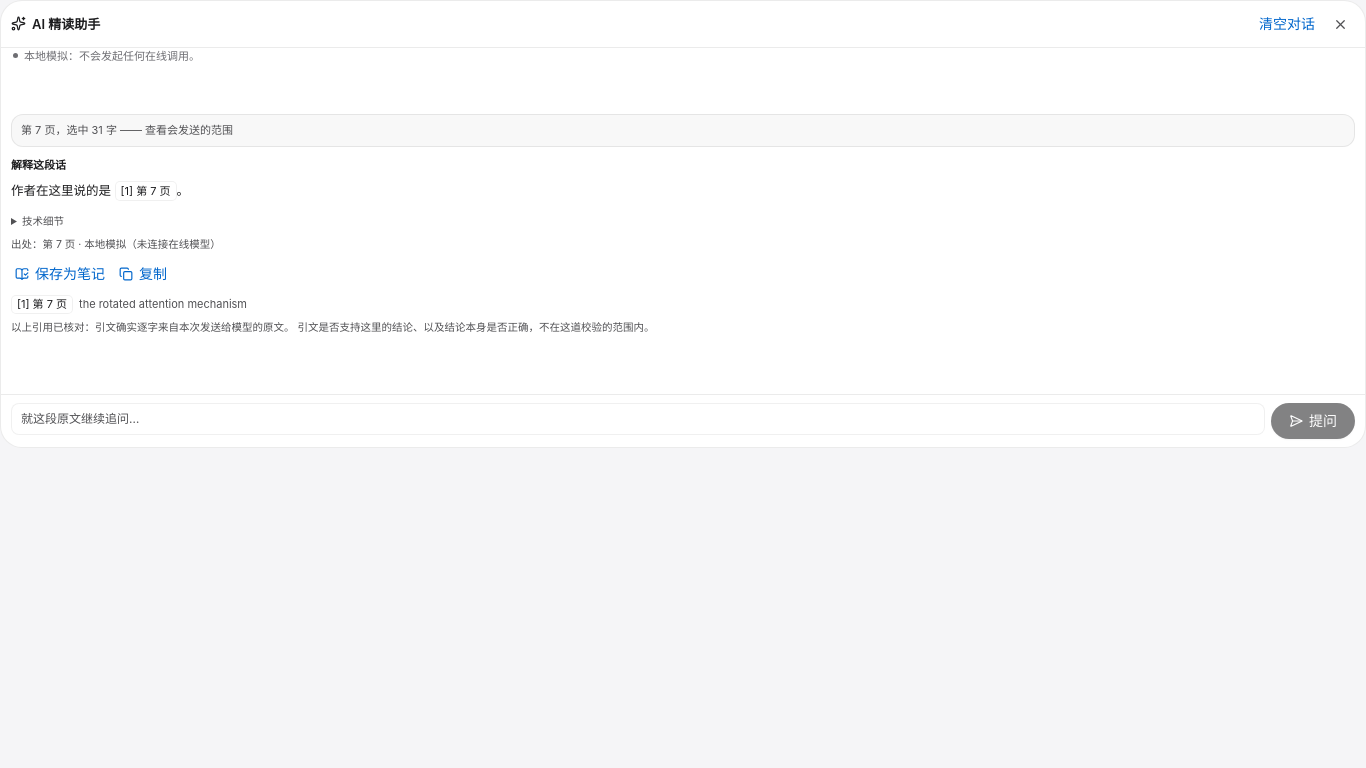
AiPanel › the range that will be sent › shows the layout warning when the page order could not be trusted
This screenshot has width=1366, height=768.
Click the button "第 7 页，选中 31 字 —— 查看会发送的范围" at (86, 130), box [12,115,1354,146]
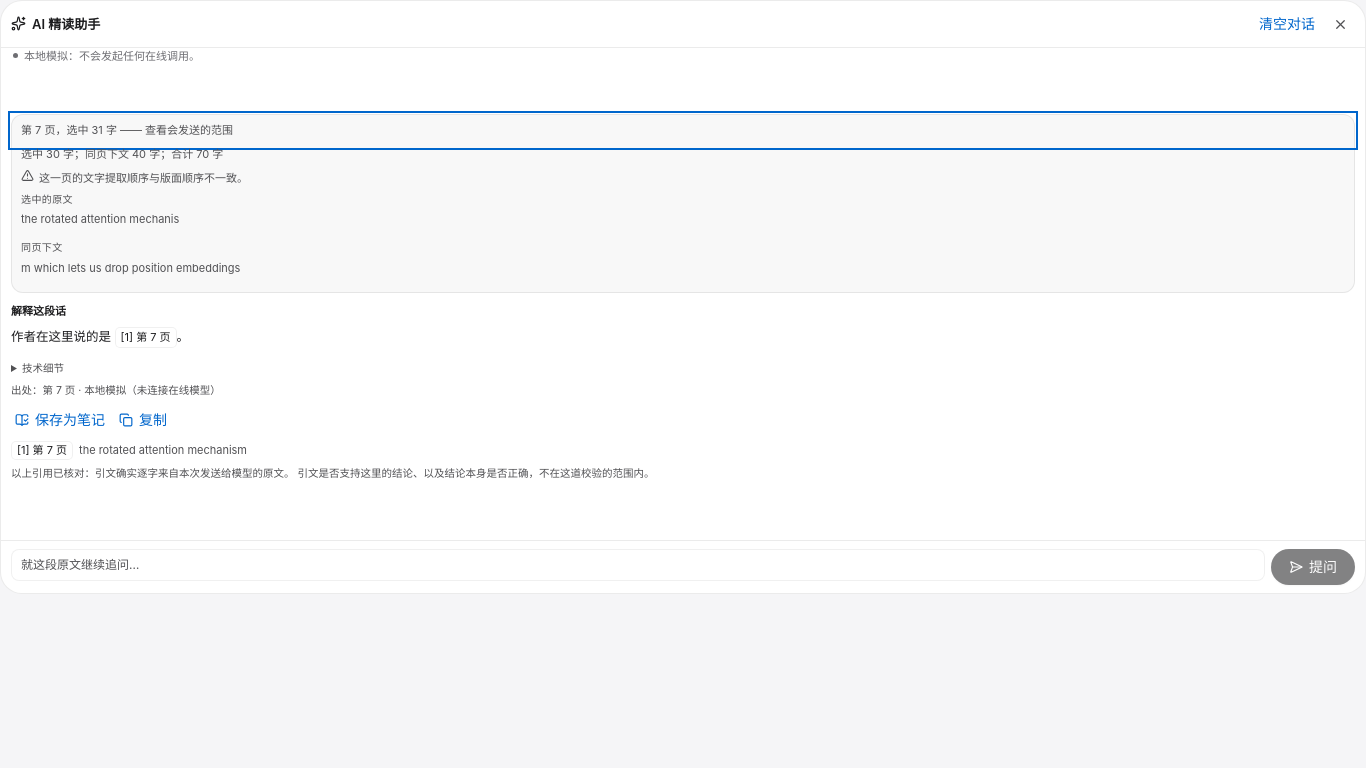
Check: the text "这一页的文字提取顺序与版面顺序不一致。" is shown, box [21,169,248,185]
